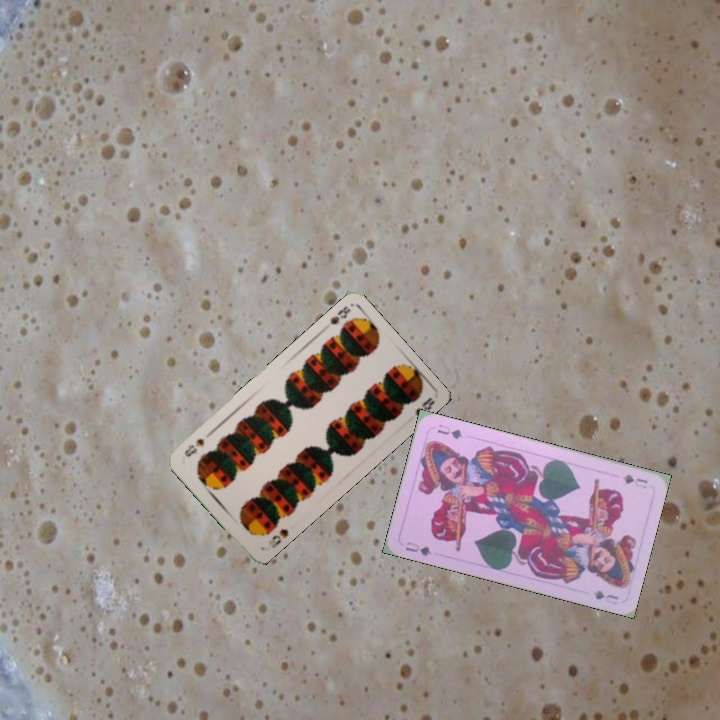GU: (402, 538, 434, 559), (619, 470, 650, 491)
S8: (261, 524, 291, 551), (326, 301, 353, 327)
